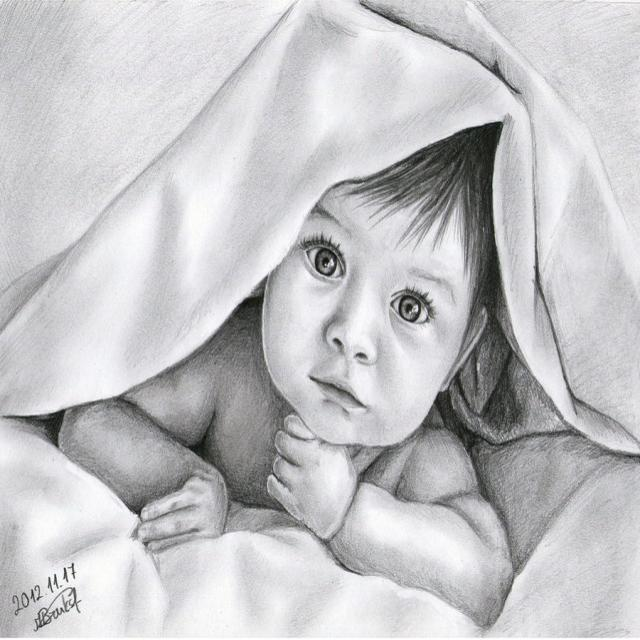non-dog: (54, 120, 520, 625)
